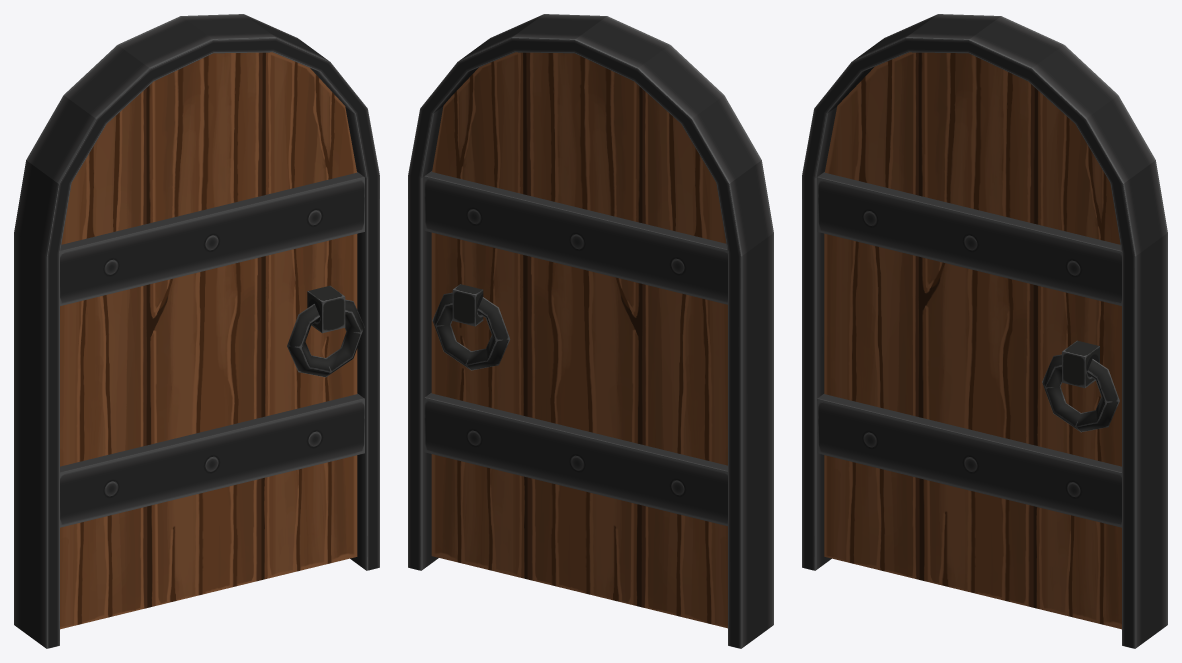
Rendered from Door.fbx.
3 renders of one model, left to right at view 1: azimuth 30°, elevation 25°; view 2: azimuth 150°, elevation 25°; view 3: azimuth 330°, elevation 25°, orthographic.
Visible parts, largest first — view 1: Door; view 2: Door; view 3: Door.
Part boxes in pixels (x1,y1,x2,y2): Door: (14, 14, 379, 648); Door: (408, 14, 773, 648); Door: (802, 14, 1167, 648).
Bounding box in the file's own units: 141 × 230 × 29.55.
